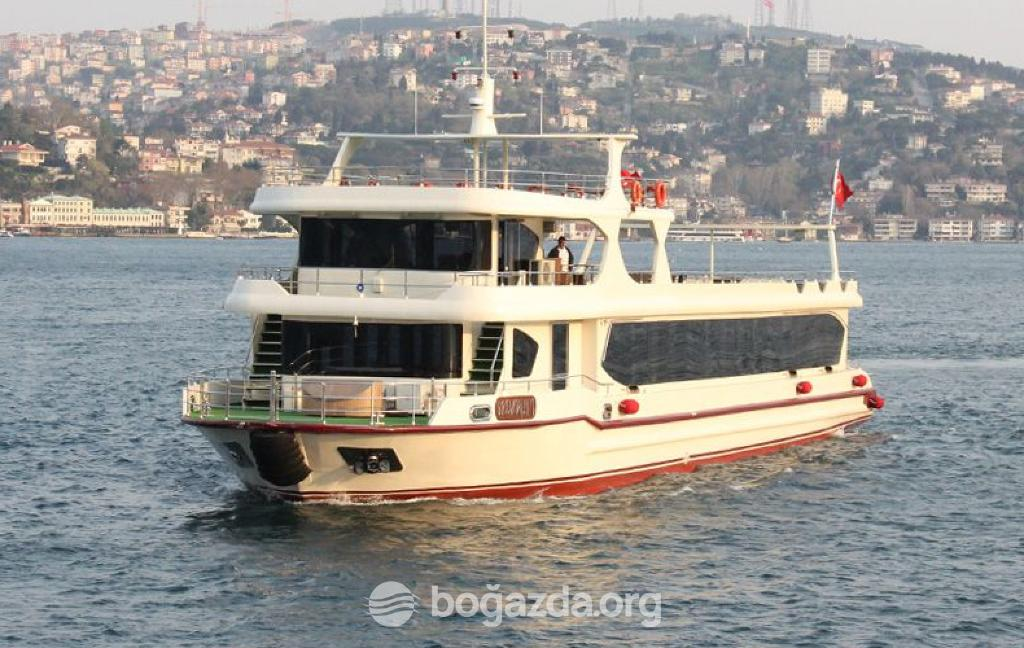PassengerShip: (158, 40, 894, 496)
